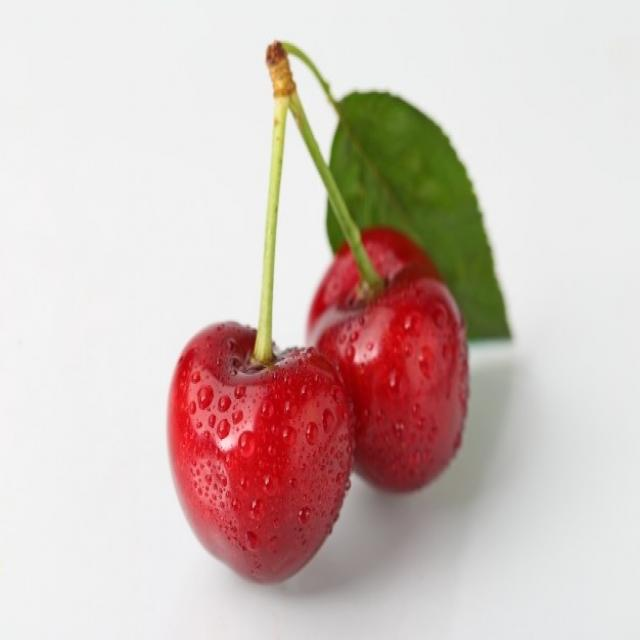cherry: (168, 35, 478, 592)
